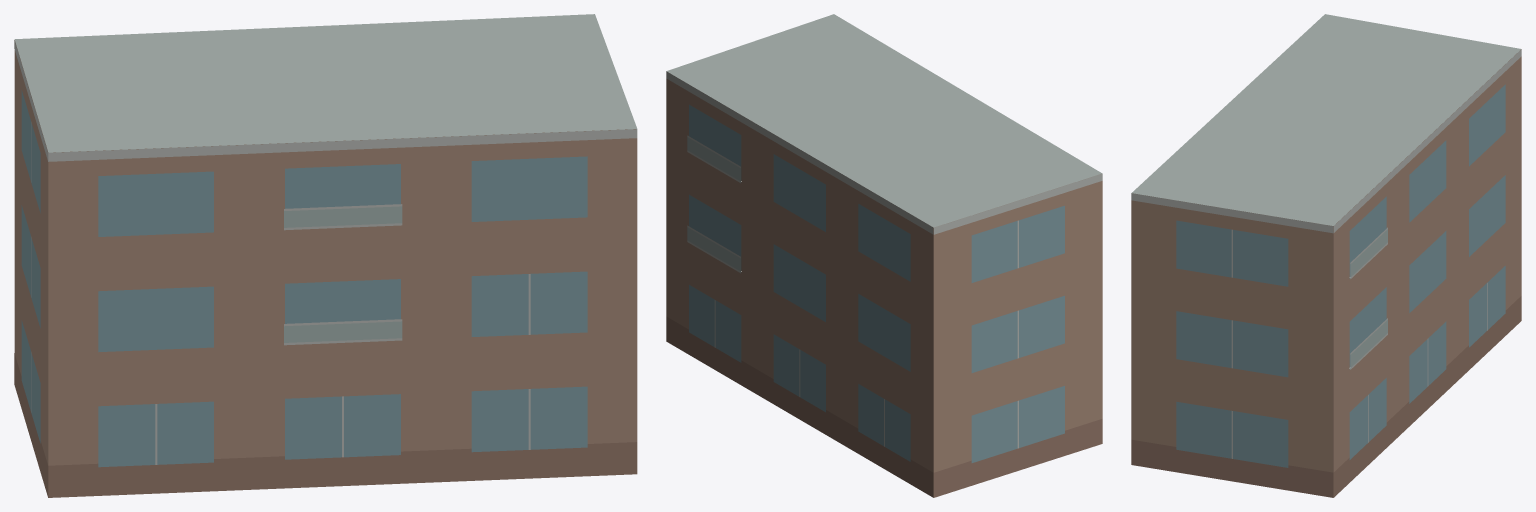
Rendered from survey-upis-32647671.glb.
The picture shows the model from 3 angles, left to right: view 1: azimuth 30°, elevation 25°; view 2: azimuth 150°, elevation 25°; view 3: azimuth 270°, elevation 25°; orthographic projection. The views are drawn at different scales.
Parts seen in each view (by area): view 1: survey-upis-32647671.tmp; view 2: survey-upis-32647671.tmp; view 3: survey-upis-32647671.tmp.
Boxes of the visible parts, <box> form: survey-upis-32647671.tmp: <box>14,14,637,497</box>; survey-upis-32647671.tmp: <box>666,14,1102,497</box>; survey-upis-32647671.tmp: <box>1131,14,1521,497</box>.
Size of the model in its own units: 15.32 by 9.15 by 11.91.
